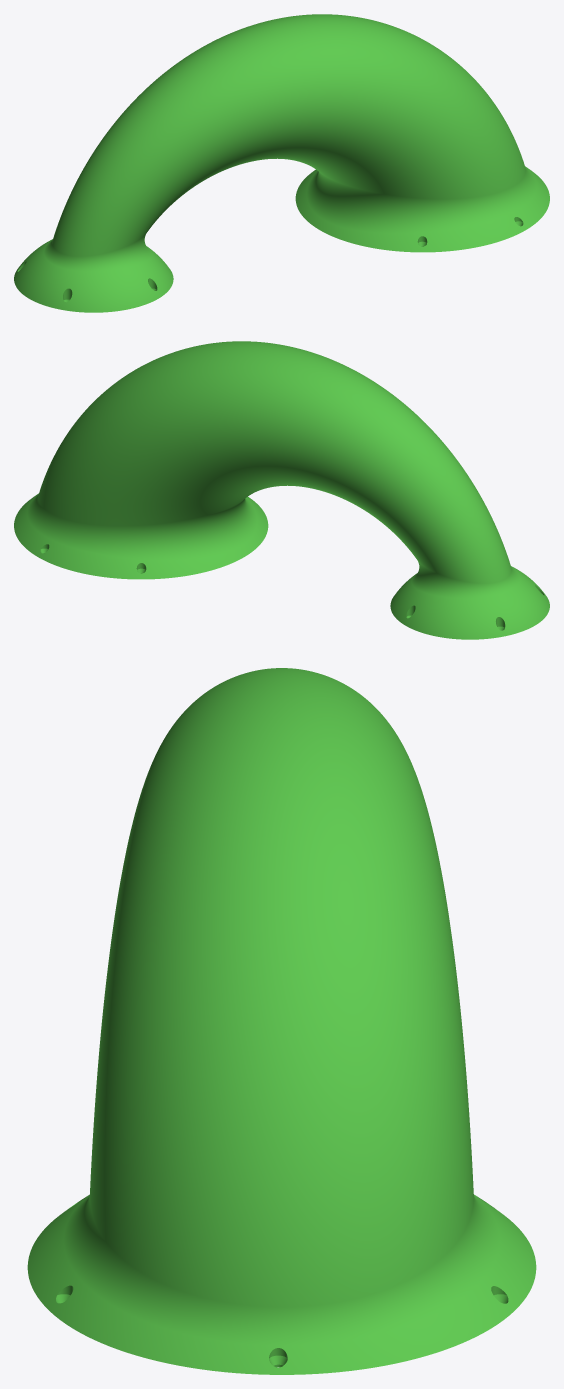
The model's file is hold05.glb.
3 renders of one model, top to bottom at view 1: azimuth 30°, elevation 25°; view 2: azimuth 150°, elevation 25°; view 3: azimuth 270°, elevation 25°, orthographic. The views are drawn at different scales.
Parts seen in each view (by area): view 1: Object_2; view 2: Object_2; view 3: Object_2.
Boxes of the visible parts, box(x1,y1,x2,y2) form: Object_2: box(14, 14, 549, 312); Object_2: box(14, 341, 549, 639); Object_2: box(27, 668, 536, 1374).
Bounding box in the file's own units: 434 × 168 × 188.
